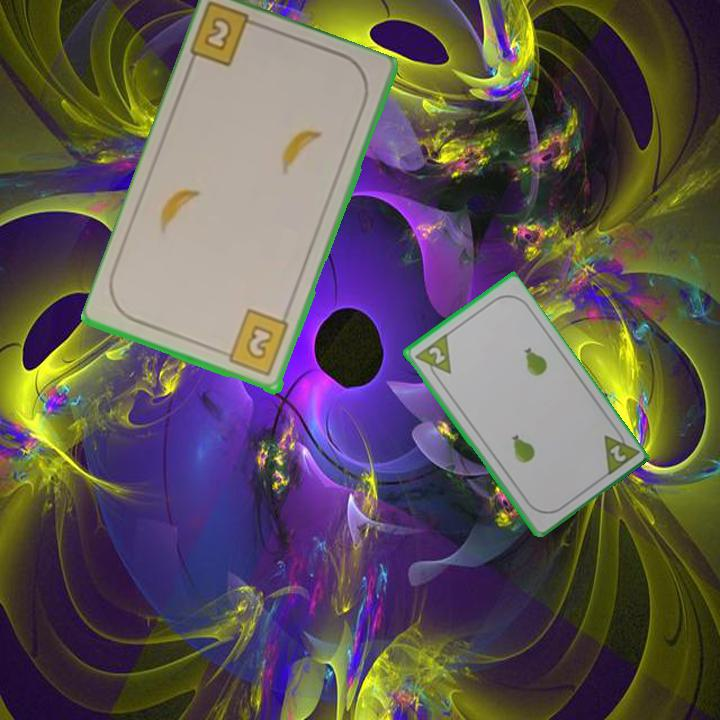2b: (188, 2, 268, 70), (218, 307, 292, 379)
2p: (410, 331, 454, 384), (605, 441, 629, 465)
